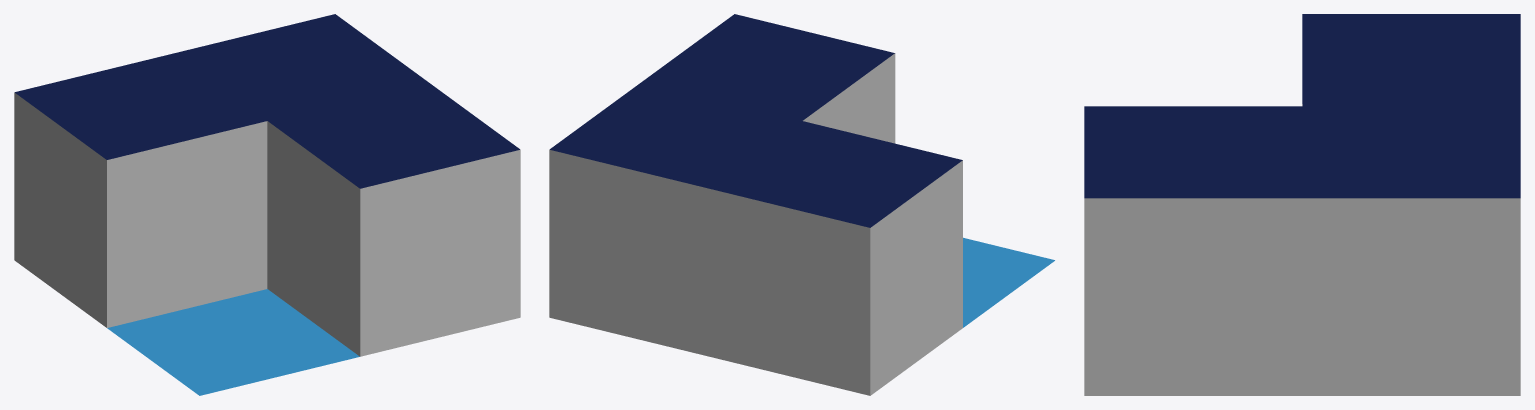
File: 0_piece_module_t.fbx
3 views of the same model, side by side, from view 1: azimuth 30°, elevation 25°; view 2: azimuth 150°, elevation 25°; view 3: azimuth 270°, elevation 25° (orthographic). The views are drawn at different scales.
Visible parts, largest first — view 1: 0_piece_module_t; view 2: 0_piece_module_t; view 3: 0_piece_module_t.
Boxes of the visible parts, x1=… form: 0_piece_module_t: x1=14, y1=14, x2=520, y2=395; 0_piece_module_t: x1=549, y1=14, x2=1054, y2=395; 0_piece_module_t: x1=1084, y1=14, x2=1520, y2=395.
Bounding box in the file's own units: 200 × 100 × 200.
